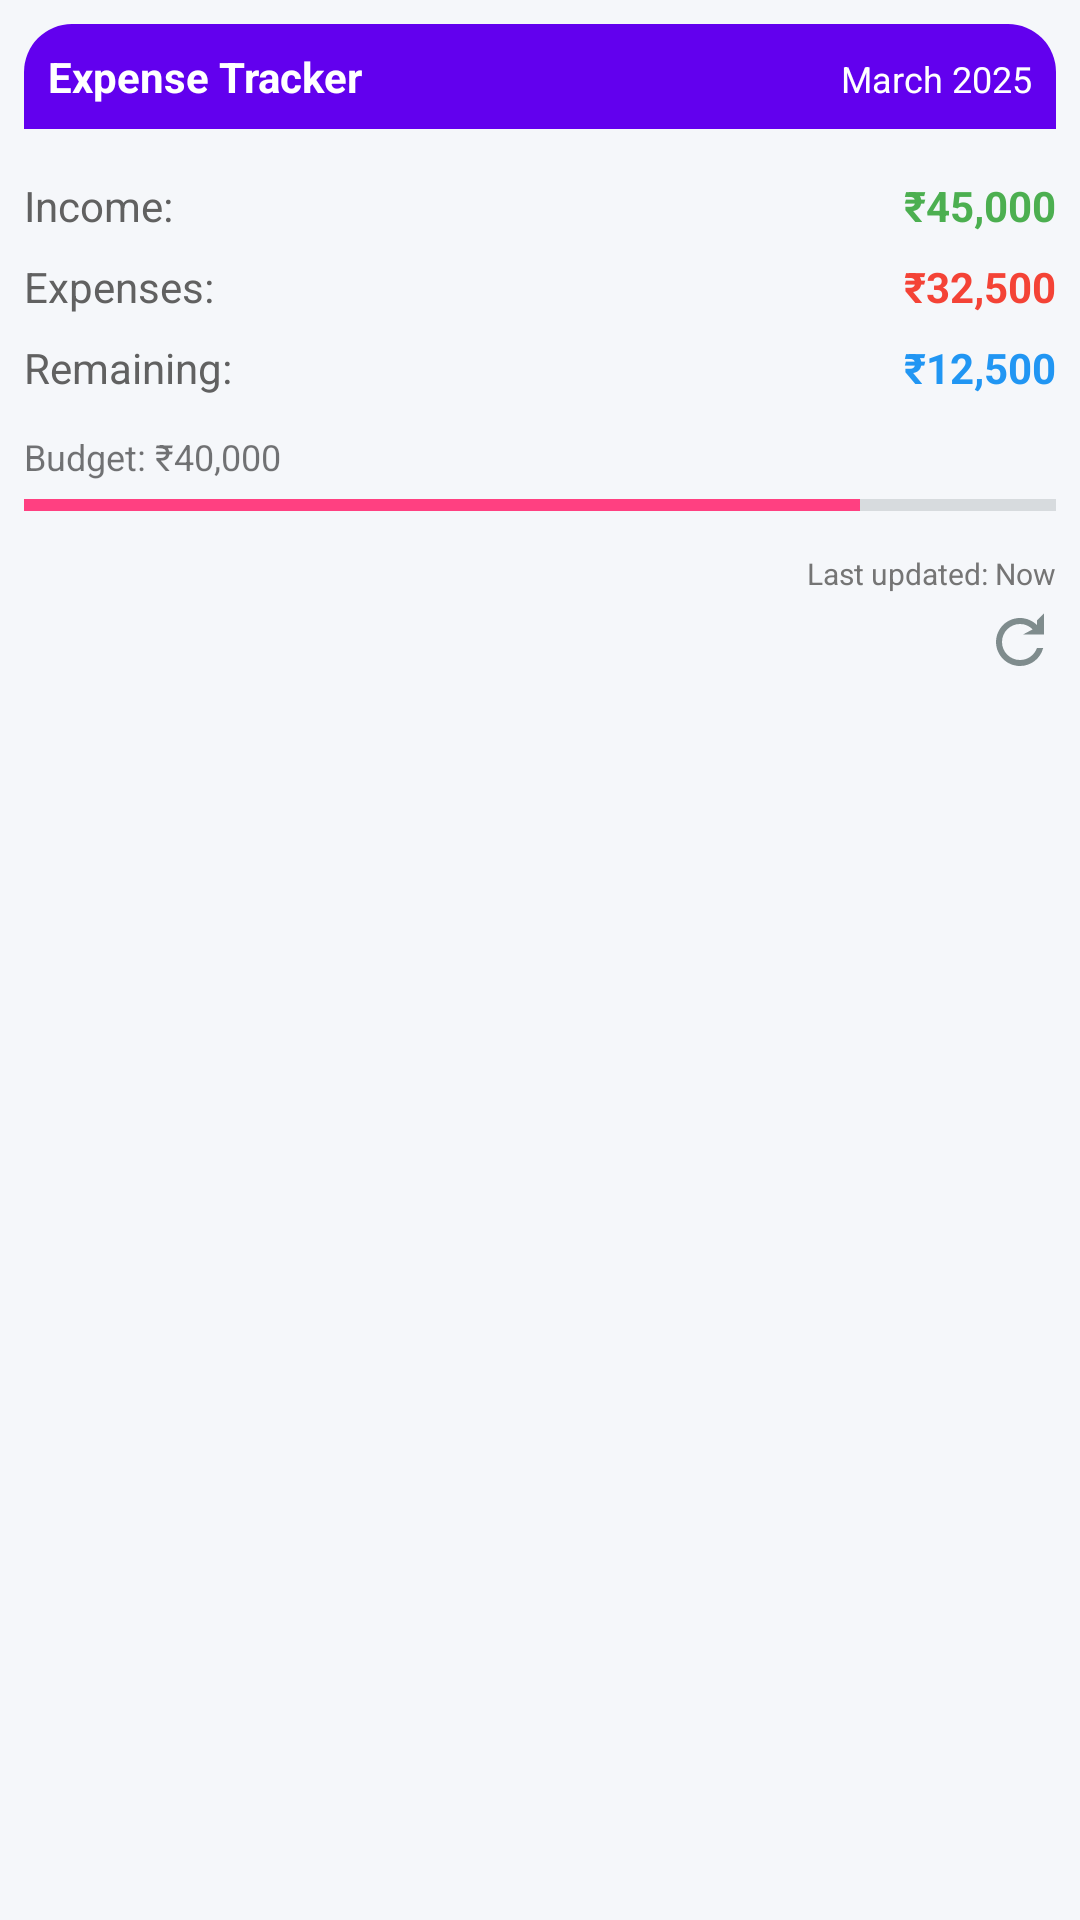

Screen size 1080*1920. Icon name, then its center in pixels as point (x, y):
refresh: point (1020, 640)
